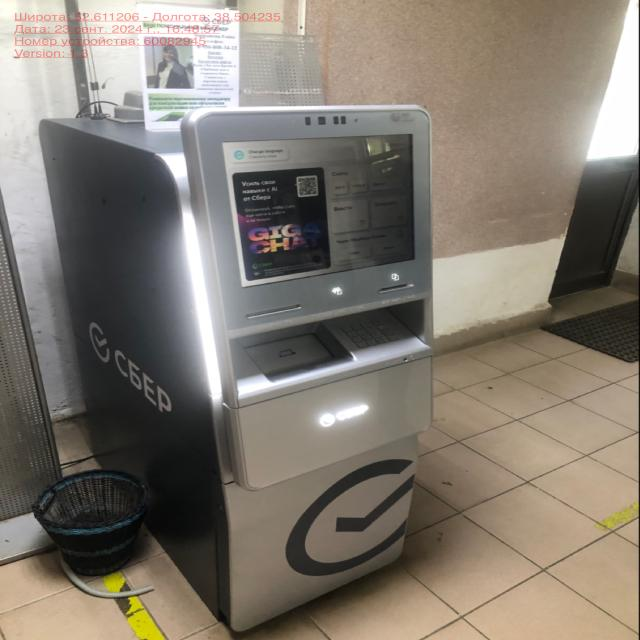bank: (36, 101, 435, 640)
